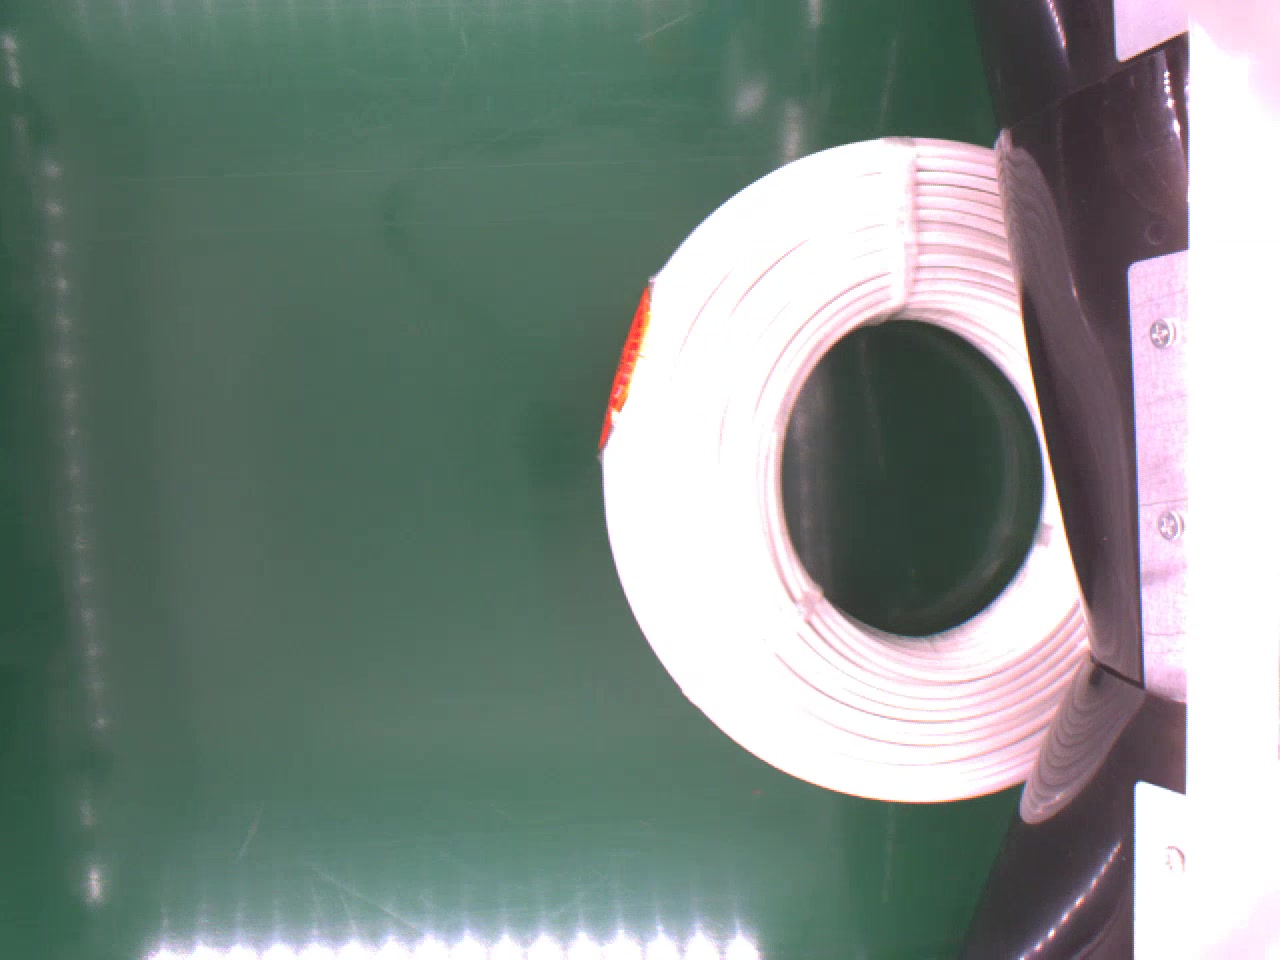white: (596, 127, 1098, 815)
